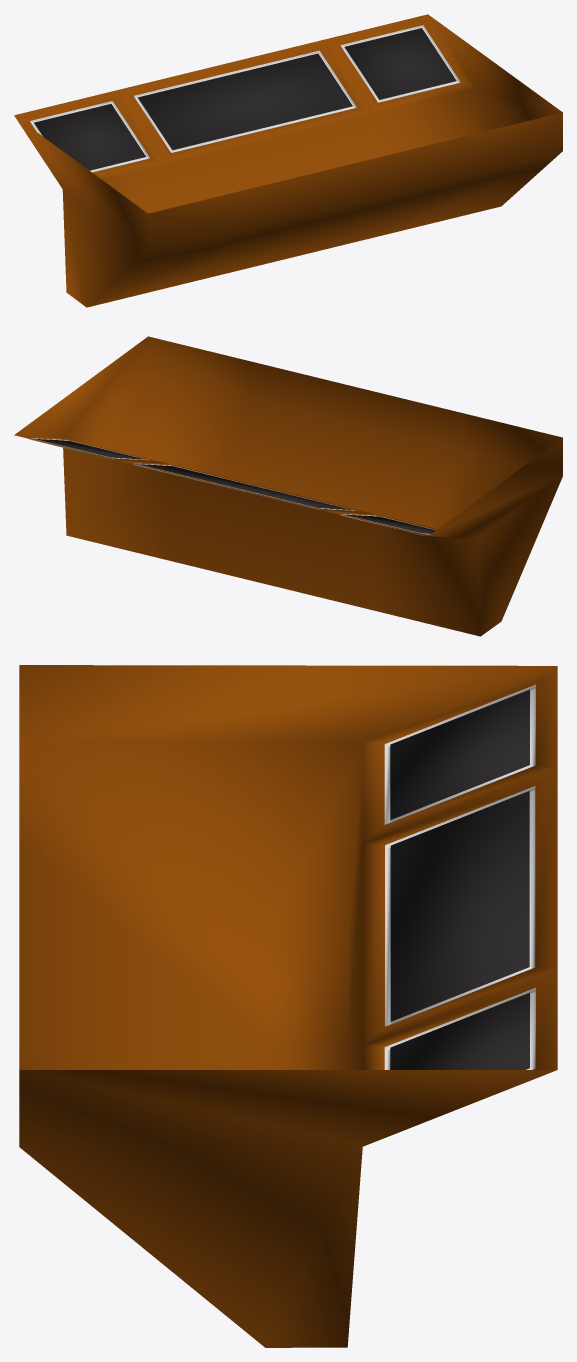
Rendered from Control_Panel.fbx.
3 views of the same model, one above another, from view 1: azimuth 30°, elevation 25°; view 2: azimuth 150°, elevation 25°; view 3: azimuth 270°, elevation 25° (orthographic). The views are drawn at different scales.
Visible parts, largest first — view 1: SubwayCart_01_ControlPanel_low; view 2: SubwayCart_01_ControlPanel_low; view 3: SubwayCart_01_ControlPanel_low.
Boxes of the visible parts, x1,y1,x2,y2 form: SubwayCart_01_ControlPanel_low: [14, 14, 562, 307]; SubwayCart_01_ControlPanel_low: [14, 336, 562, 636]; SubwayCart_01_ControlPanel_low: [19, 665, 557, 1347].
Size of the model in its own units: 1.53 by 0.4897 by 0.8592.
